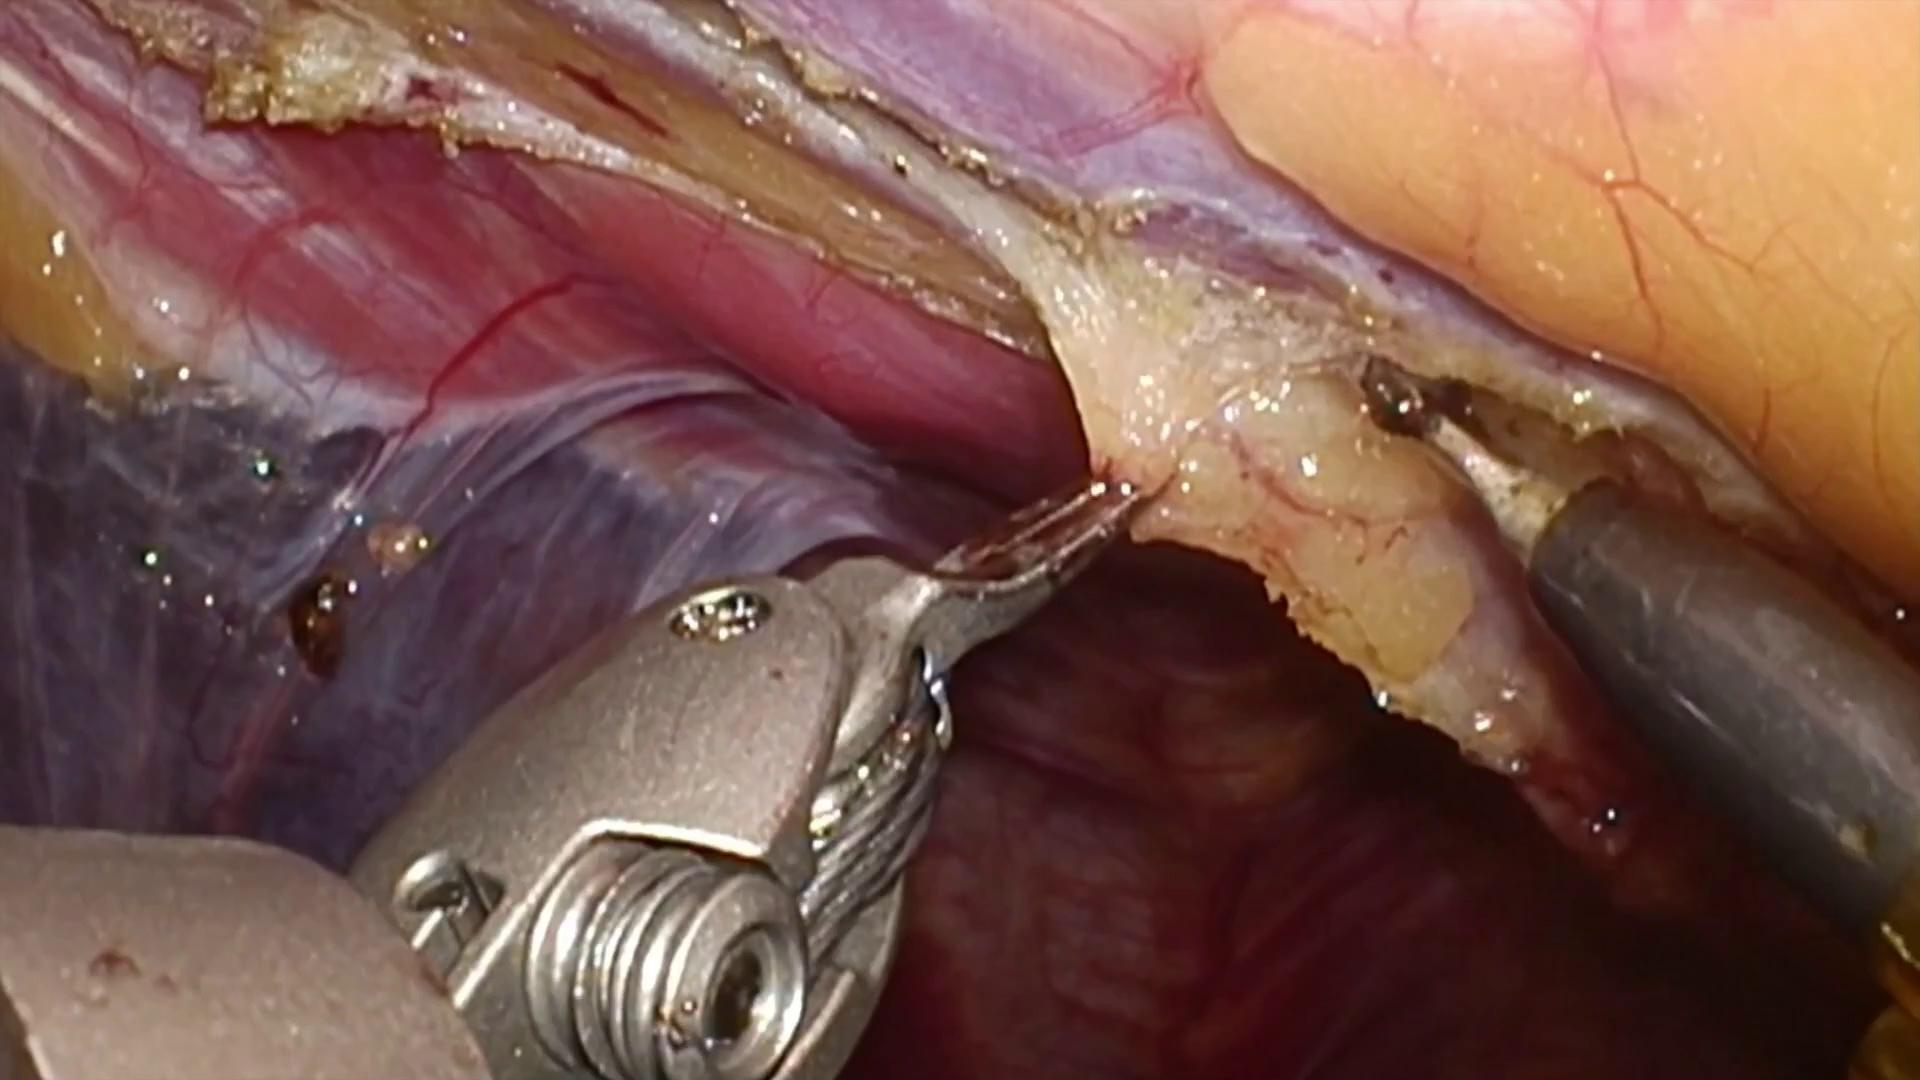Cautery_Spatula: (1360, 355, 1920, 957)
Debakey: (806, 452, 1171, 703)
